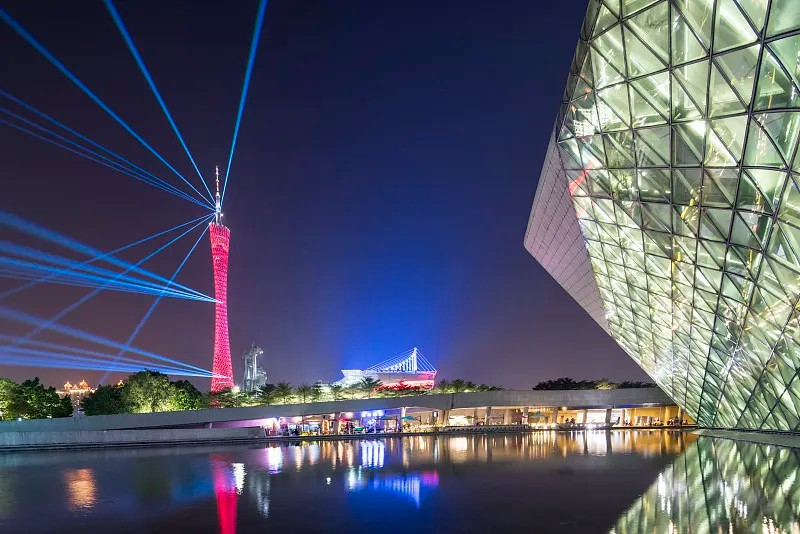Canton: (206, 165, 236, 394)
